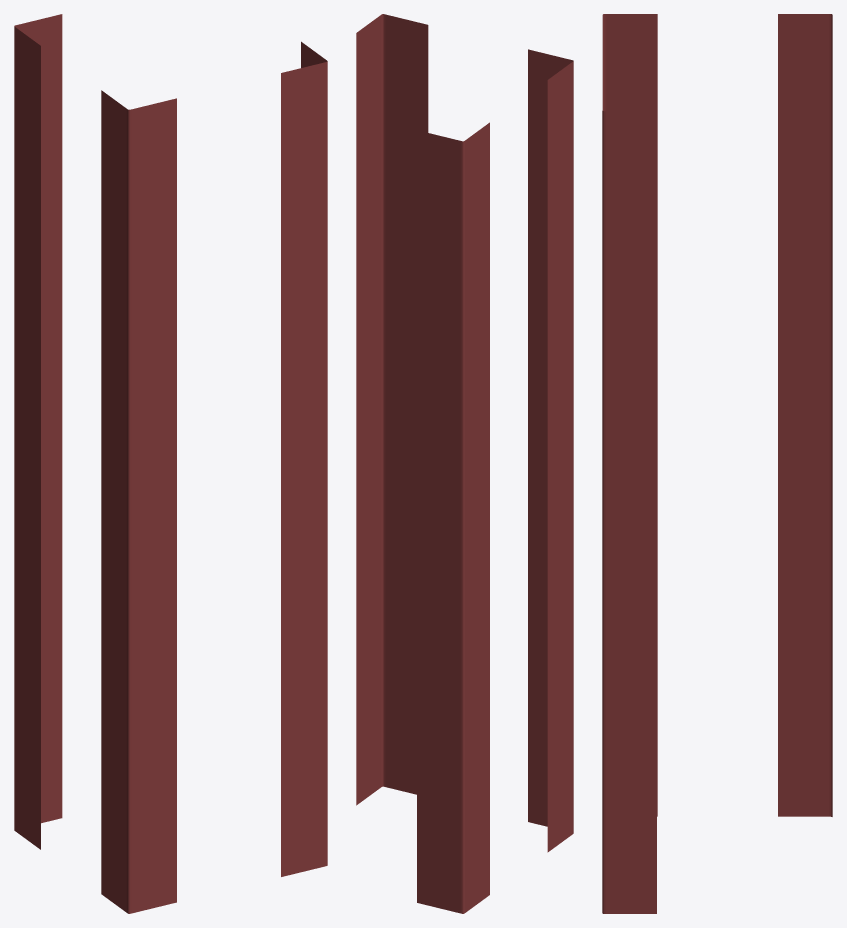
Rendered from Decal_wallIn_C_corner_outLarge.FBX.
3 views of the same model, side by side, from view 1: azimuth 30°, elevation 25°; view 2: azimuth 150°, elevation 25°; view 3: azimuth 270°, elevation 25° (orthographic). The views are drawn at different scales.
Parts seen in each view (by area): view 1: Decal_wallIn_C_corner_outLarge; view 2: Decal_wallIn_C_corner_outLarge; view 3: Decal_wallIn_C_corner_outLarge.
Boxes of the visible parts, x1,y1,x2,y2 form: Decal_wallIn_C_corner_outLarge: (14, 14, 327, 913); Decal_wallIn_C_corner_outLarge: (356, 14, 573, 913); Decal_wallIn_C_corner_outLarge: (602, 14, 832, 913).
Size of the model in its own units: 70.61 by 272 by 70.61.
